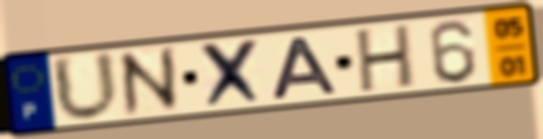6: (426, 16, 479, 88)
A: (268, 34, 341, 102)
H: (355, 21, 417, 96)
N: (114, 44, 185, 121)
U: (48, 48, 123, 125)
X: (197, 35, 268, 112)
